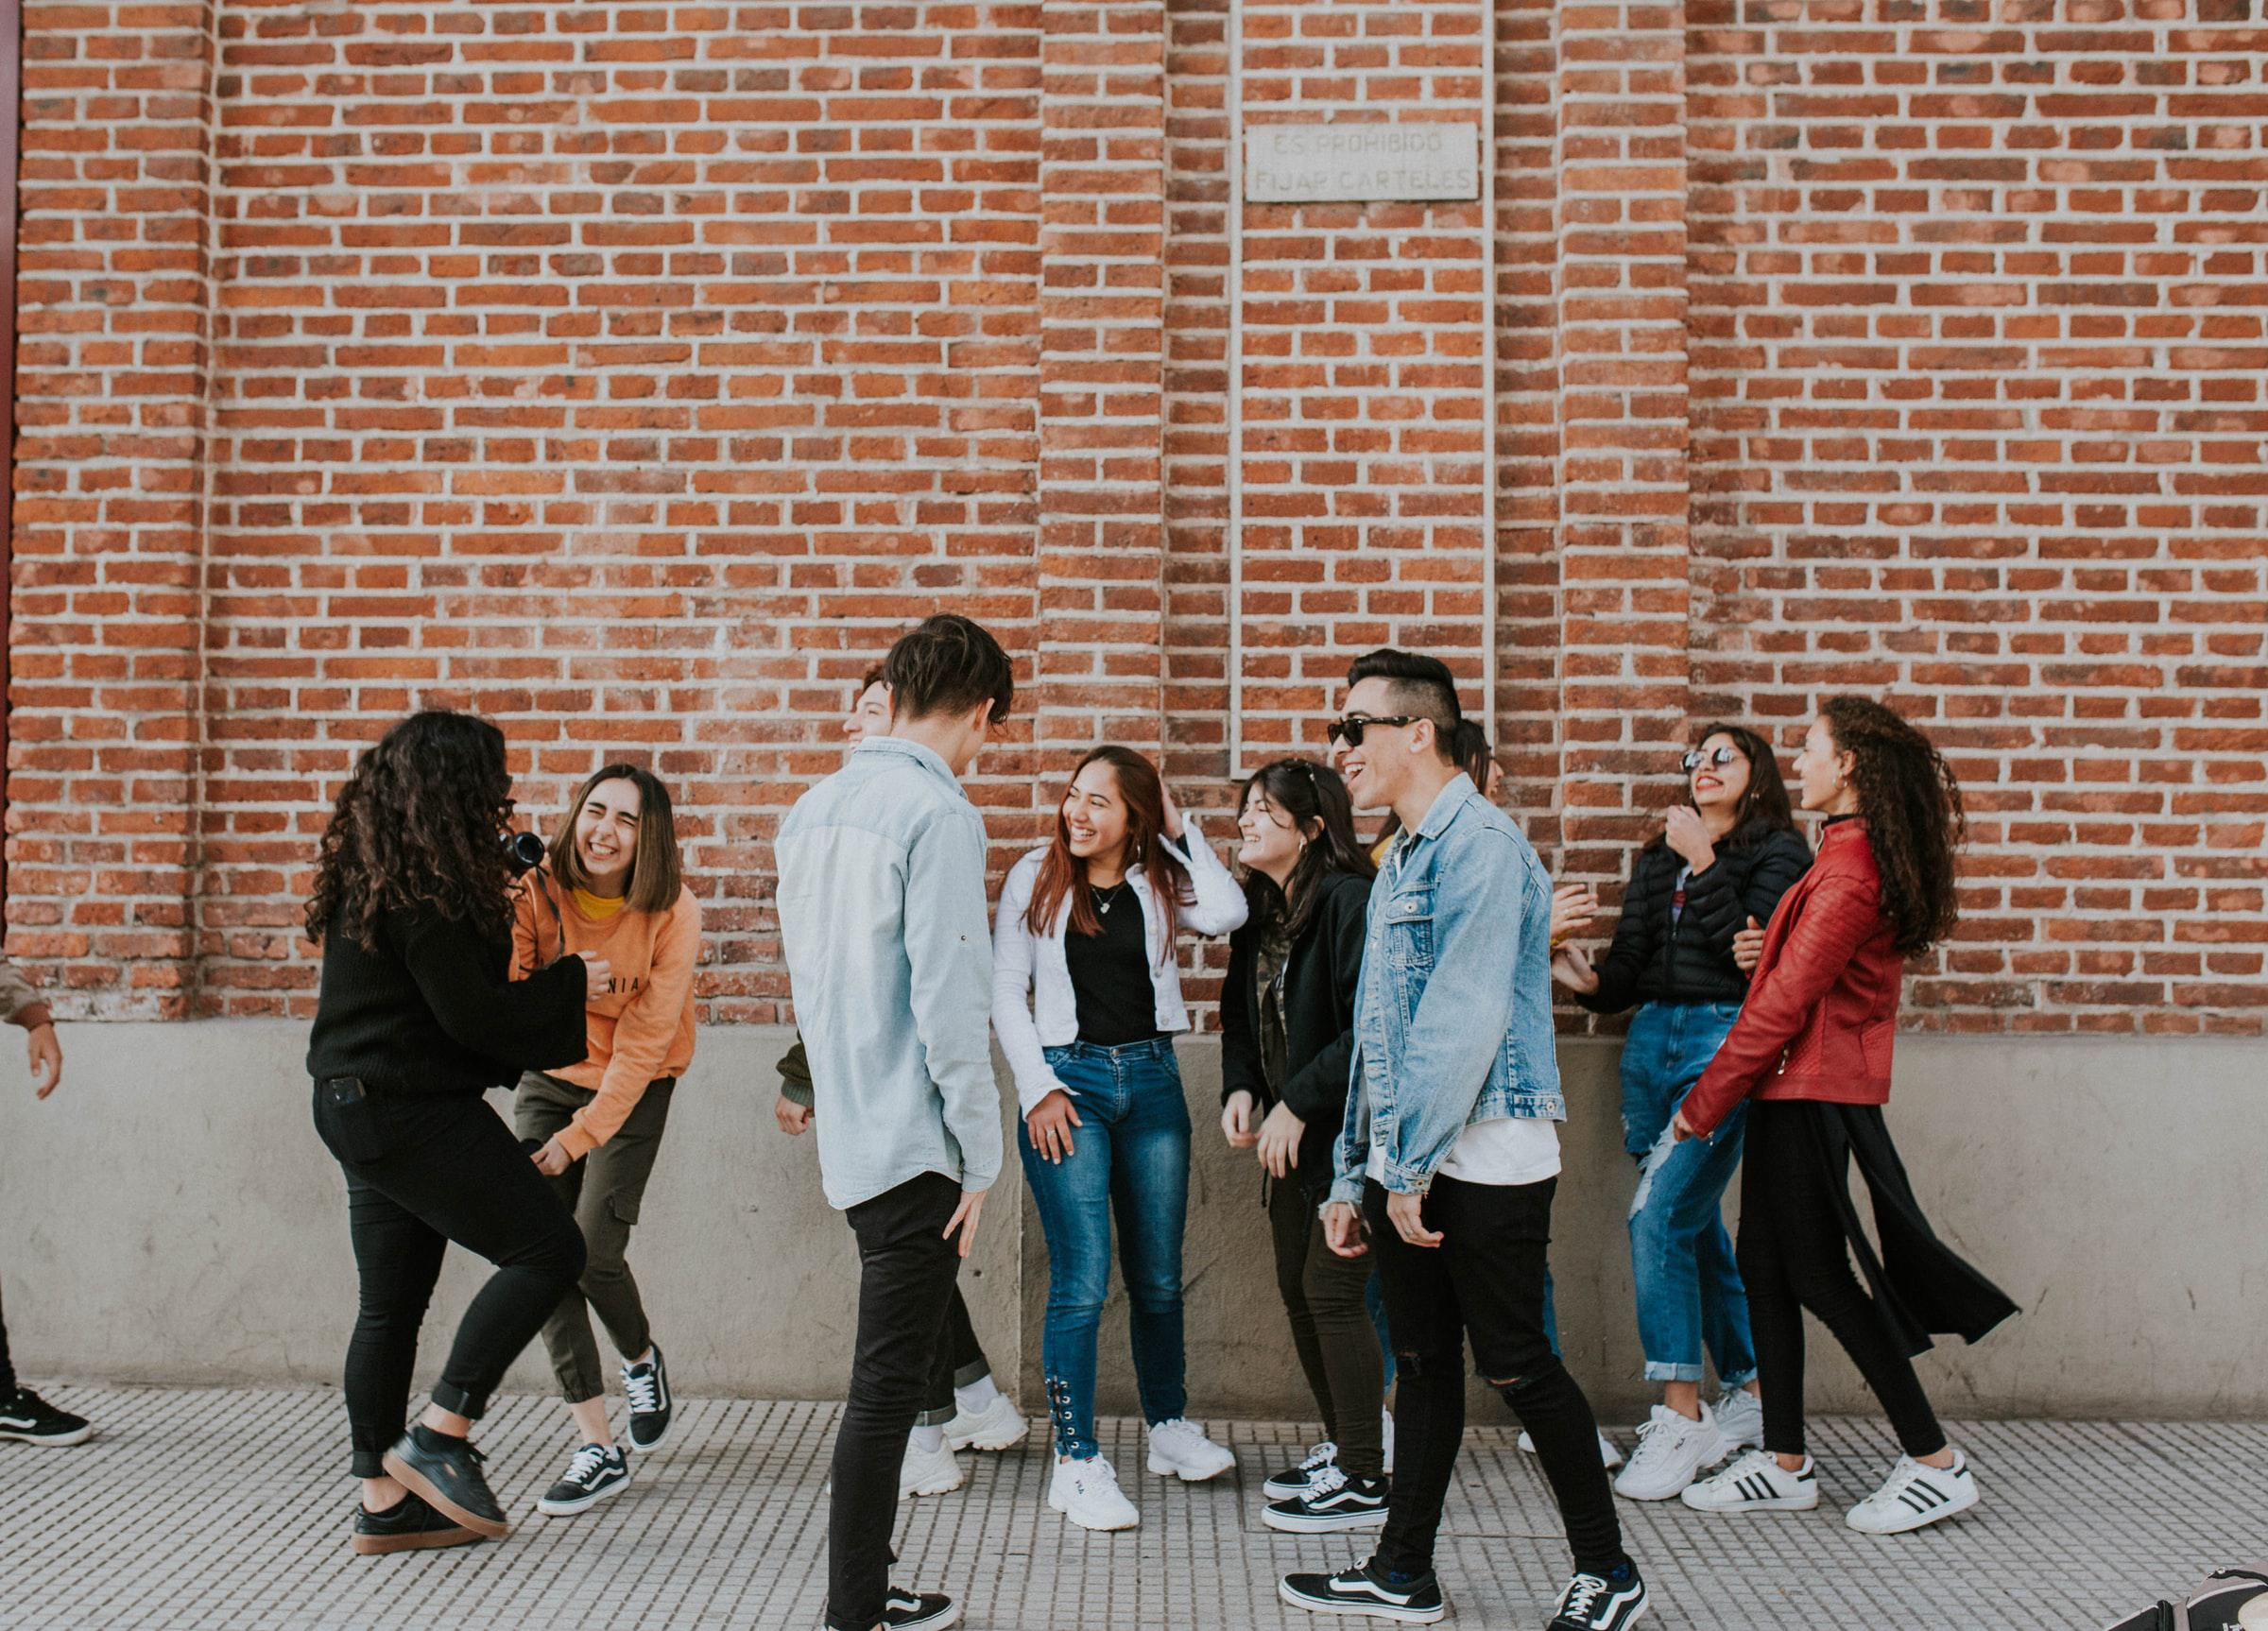without_mask: (1315, 638, 1486, 826), (1797, 666, 1948, 844), (559, 751, 688, 915), (1215, 751, 1338, 886), (1055, 739, 1170, 882), (1662, 692, 1759, 829)
